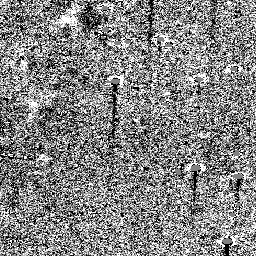LE: (52, 3, 96, 40)
